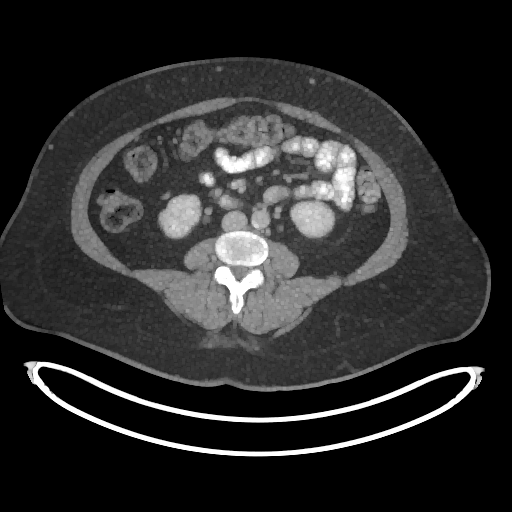Lesion: (165, 223, 175, 231)
